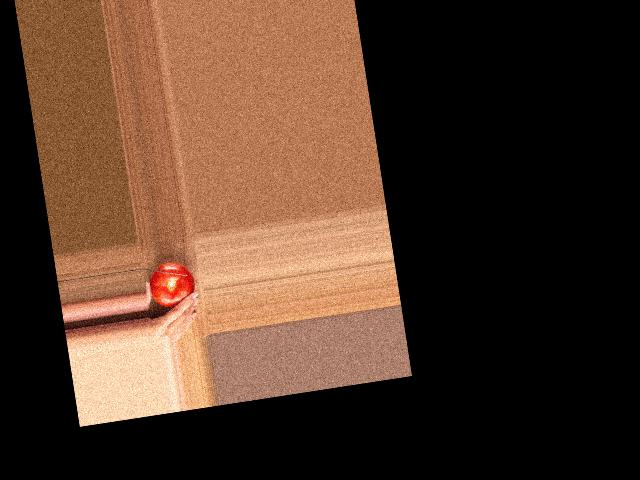tomato: (146, 259, 197, 310)
